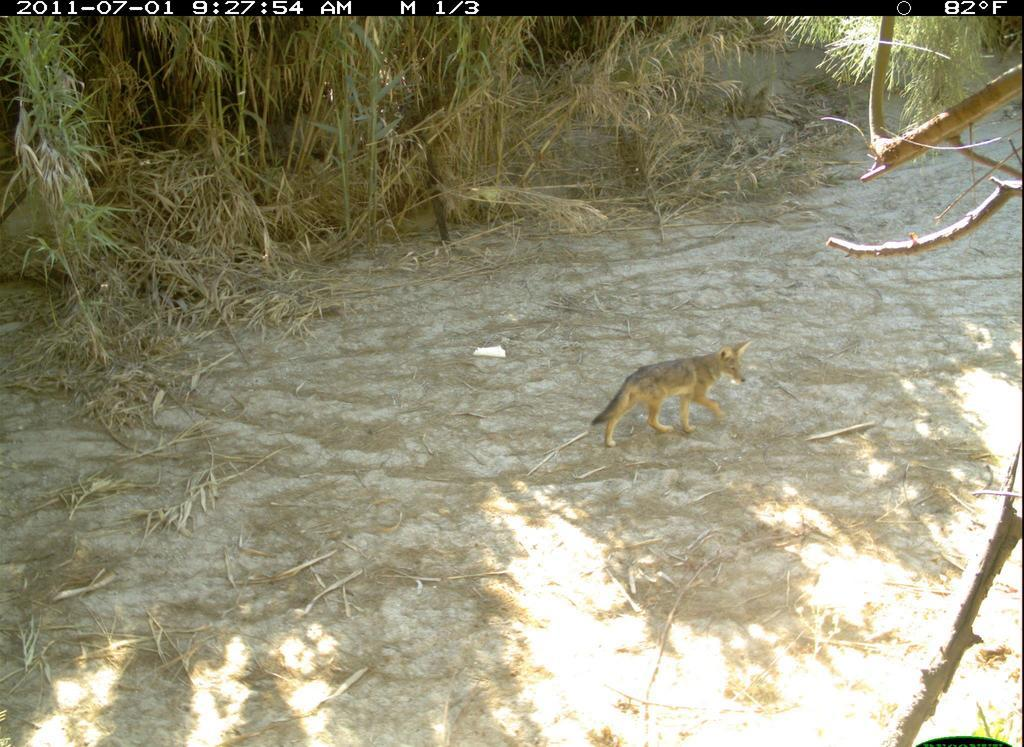coyote: (584, 335, 753, 454)
